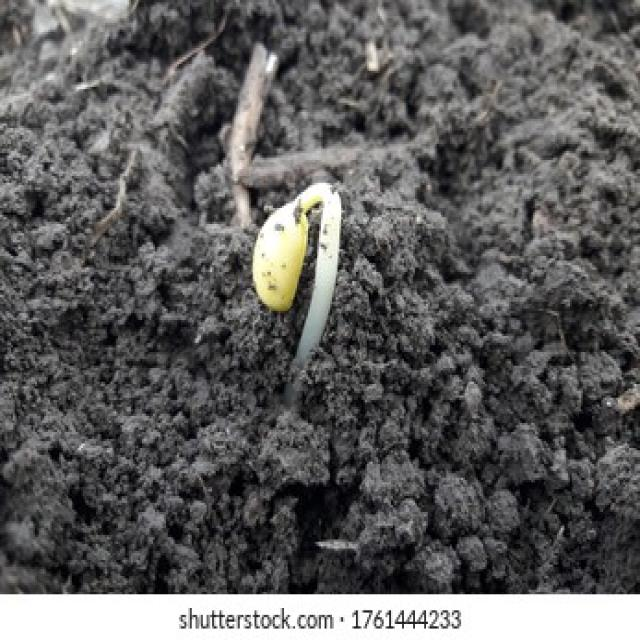Black Soil: (18, 88, 210, 520), (422, 132, 608, 541)
